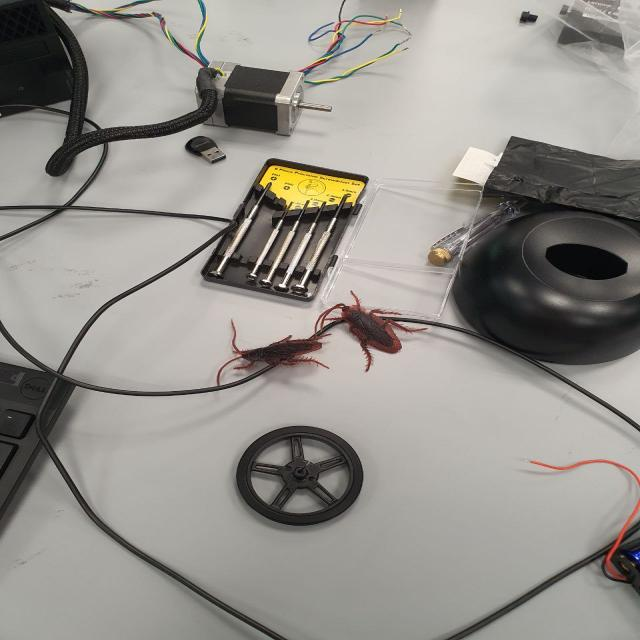Cockroach: (207, 316, 334, 398), (314, 284, 432, 371)
